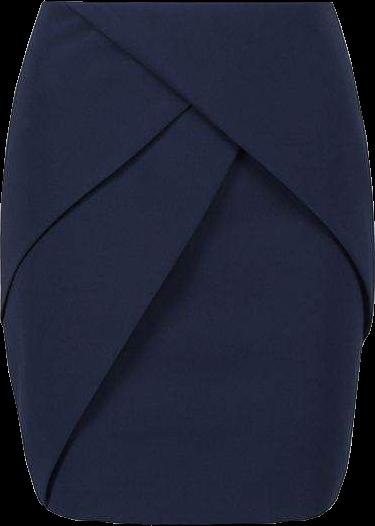Hemline: (71, 8, 374, 318), (39, 144, 246, 512), (0, 99, 196, 322), (44, 503, 339, 525)
Waistline: (40, 0, 339, 9)
